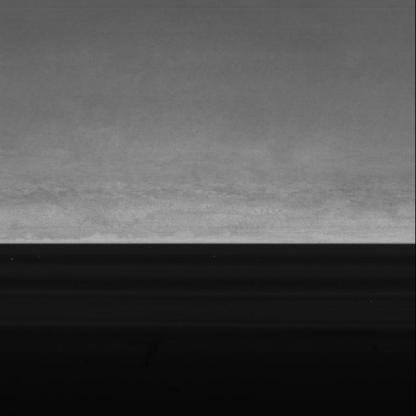silk_spot: (58, 158, 404, 209)
